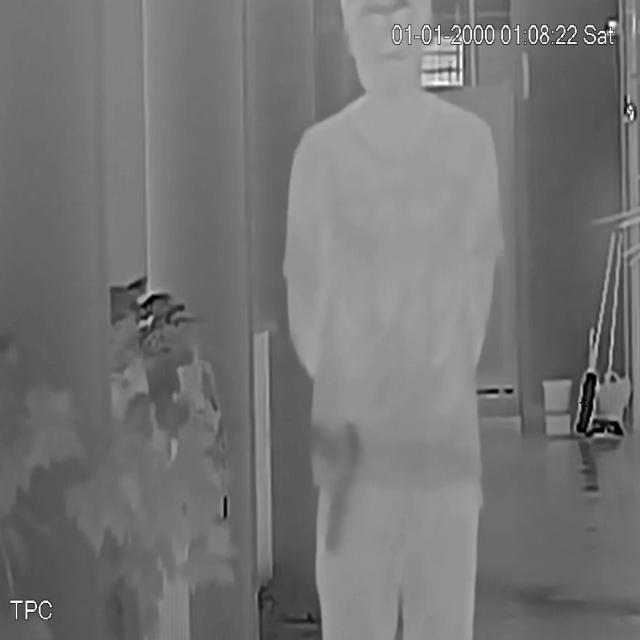Weapon: (306, 406, 369, 559)
